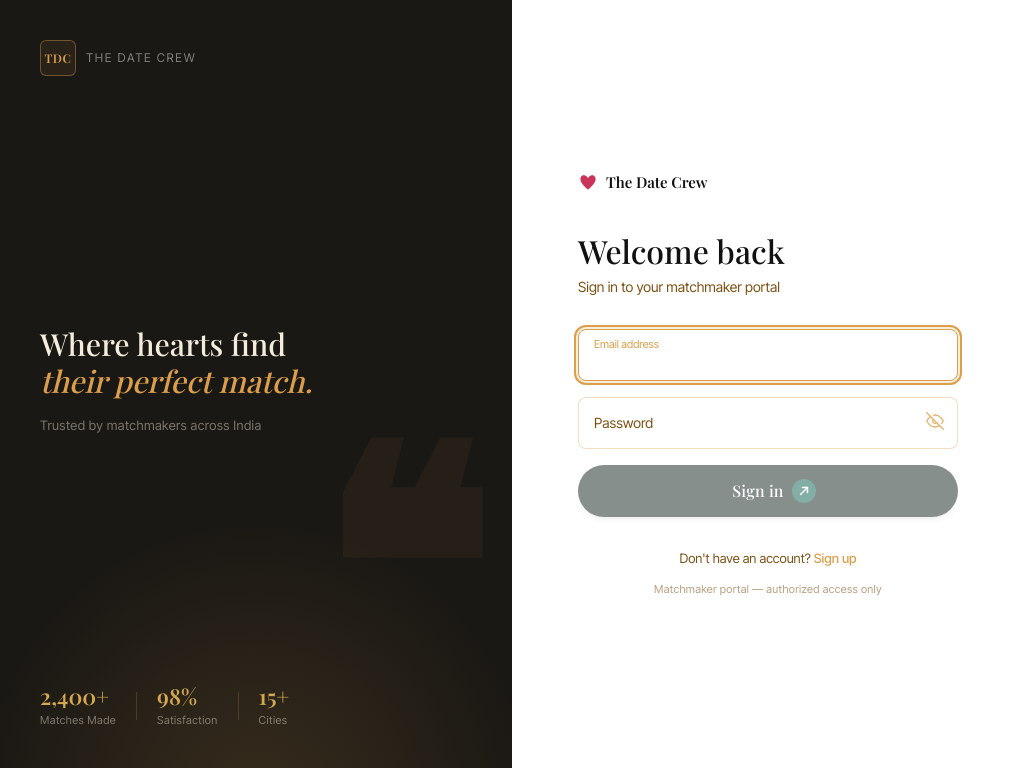
Scenario: LoginPage — submission › dismisses error when X button is clicked
This screenshot has width=1024, height=768.
Type "a@b.com" into the field labelled "Email address" at x=768, y=355, box [578,329,958,381]
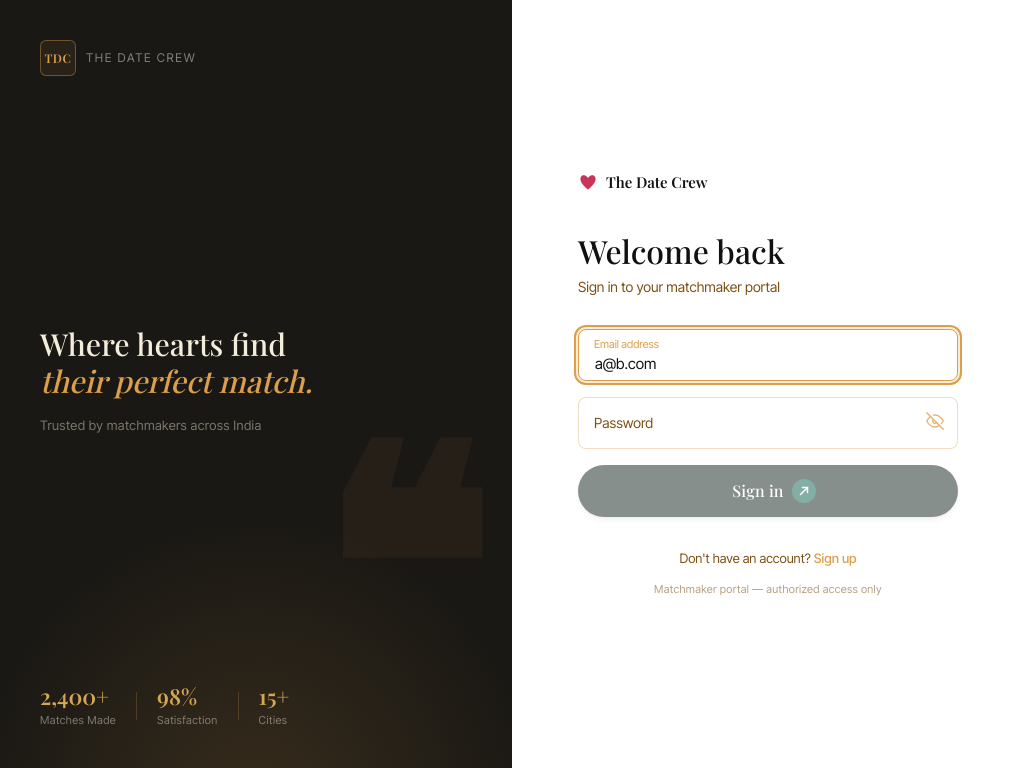
Type "p" into the password field labelled "Password" at x=768, y=423, box [578,397,958,449]
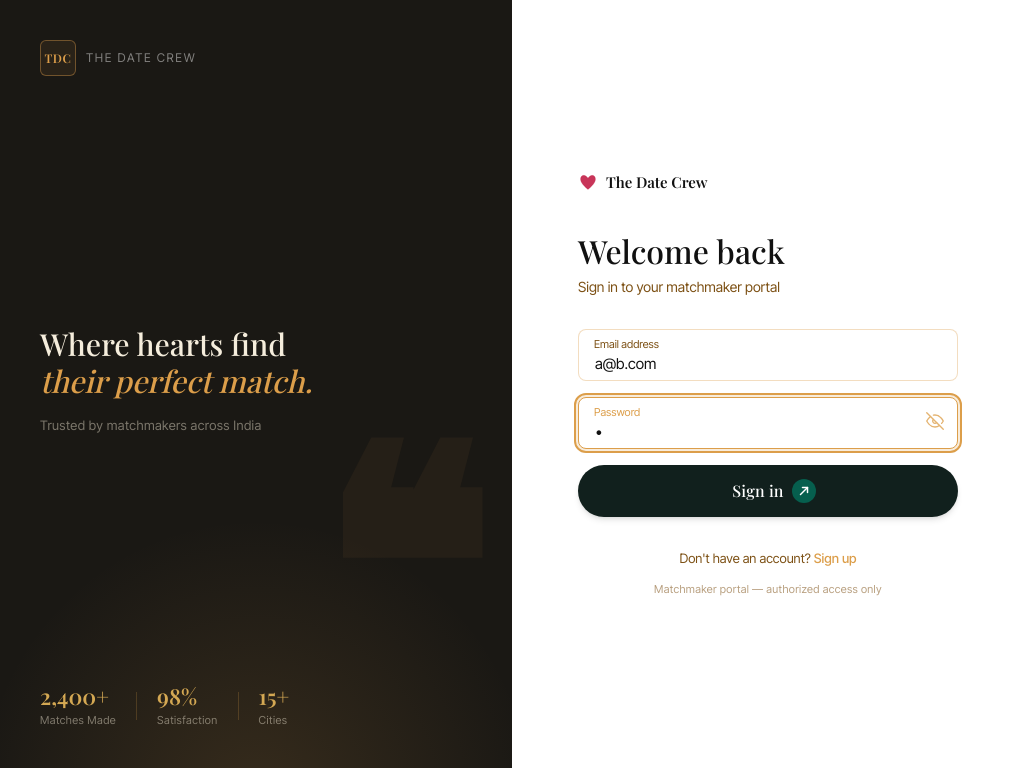
Click the button "Sign in" at x=768, y=491, box [578,465,958,517]
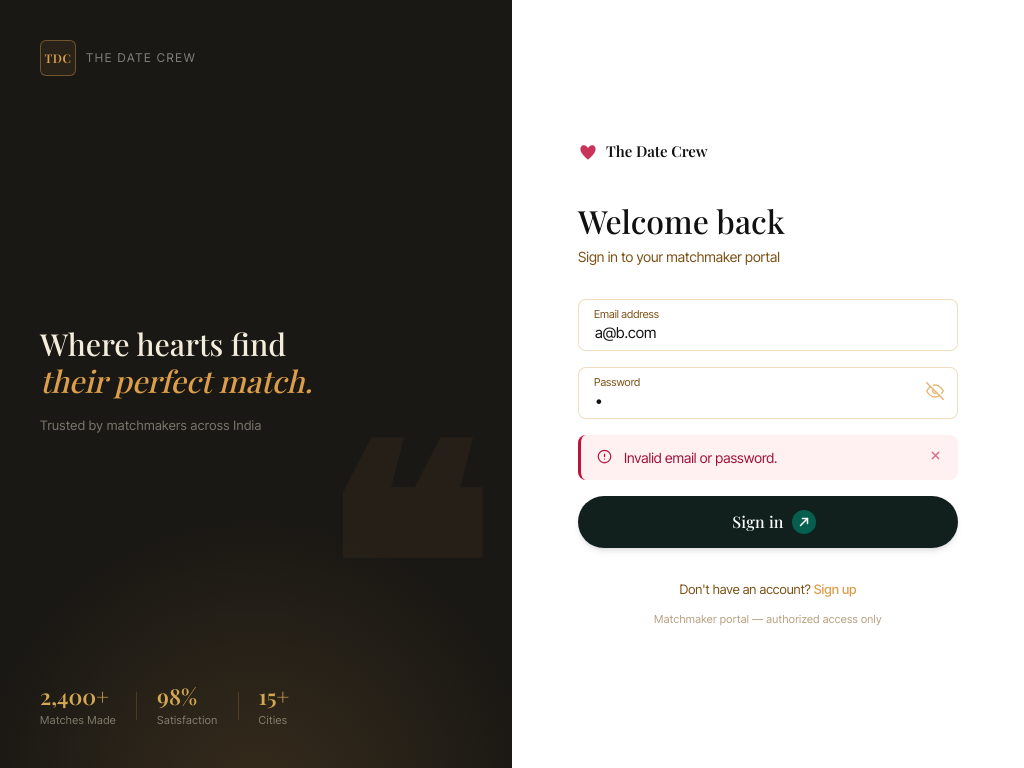
Check: the message "Invalid email or password." is shown, box [578,435,958,480]
Click the button named "dismiss error" at x=936, y=455, box [929,449,942,462]
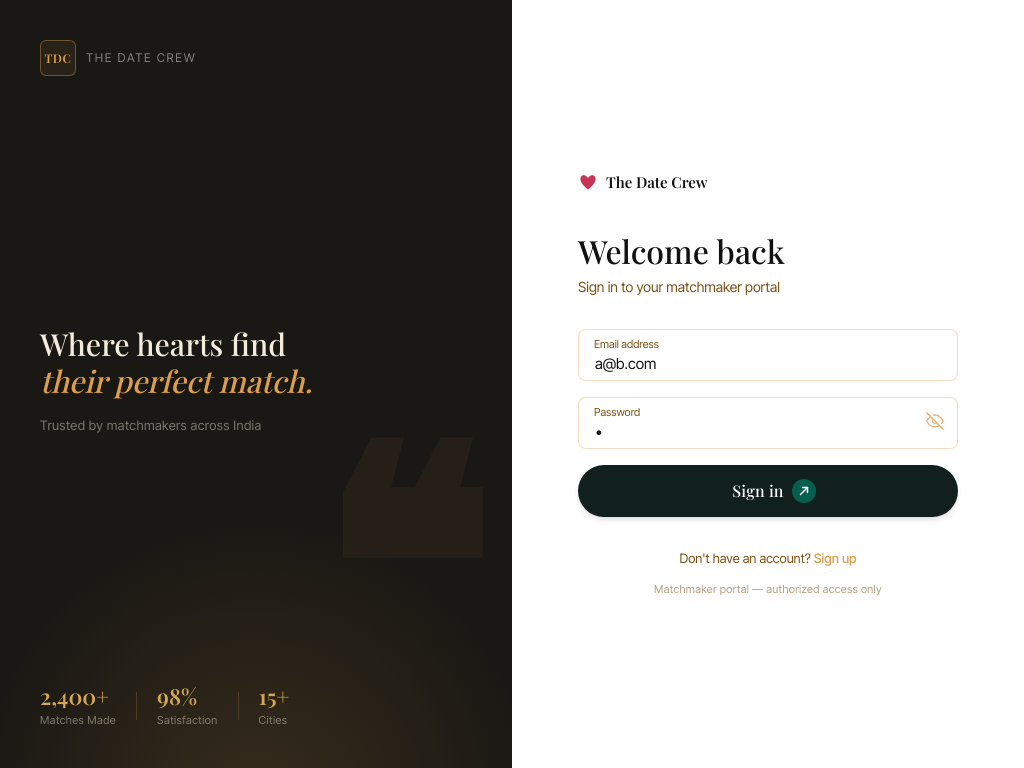
Check: the message "Invalid email or password." is gone
